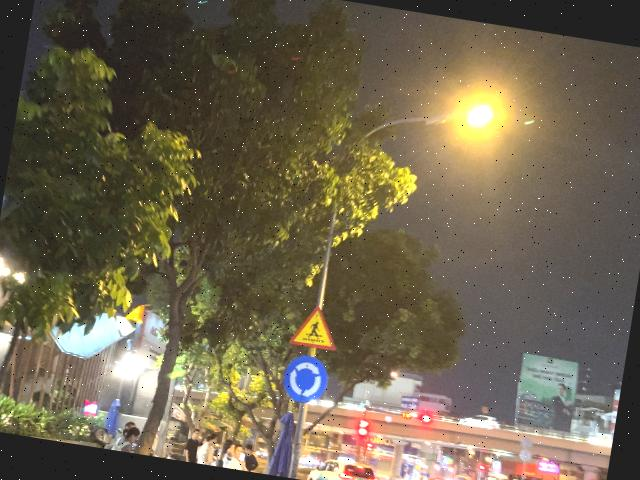duong-nguoi-di-bo-cat-ngang: (288, 302, 343, 351)
noi-giao-nhau-chay-theo-vong-xuyen: (280, 352, 330, 406)
